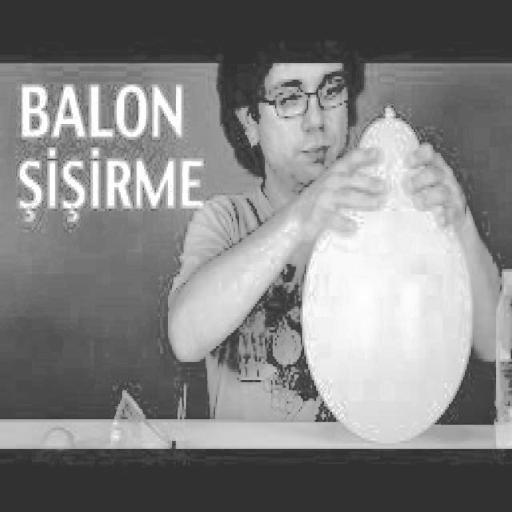balloon: (302, 122, 472, 439)
